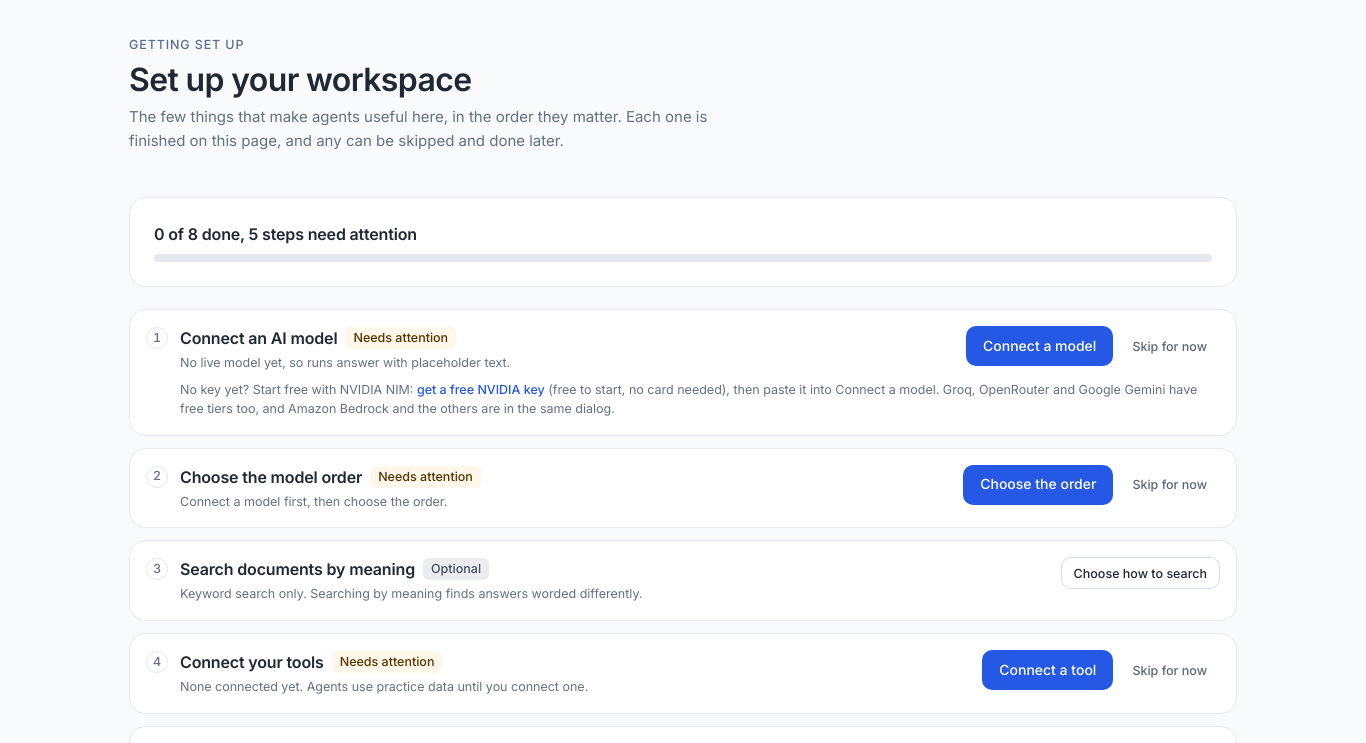
Set up your workspace › lets a step be skipped for now without changing what is true
The width and height of the screenshot is (1366, 743).
expect the text "0 of 8 done, 5 steps need attention" is shown: met, box [154,224,417,244]
Click the button with aria-label "Skip for now: Connect your tools".
click(1170, 670)  # box [1119,654,1220,686]
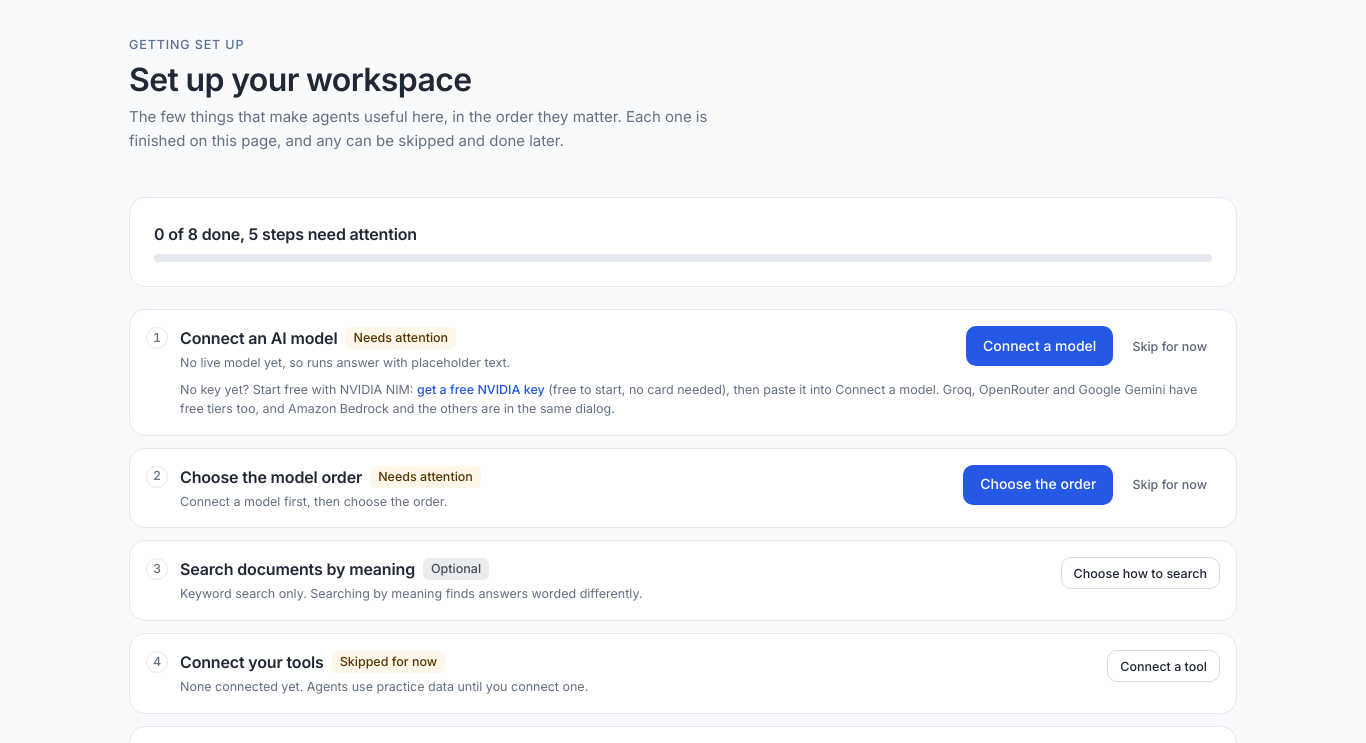
expect the button with aria-label "Connect a tool: Connect your tools" is shown: met, box [1107,650,1220,682]
expect the text "Skipped for now" is shown: met, box [340,653,437,671]
